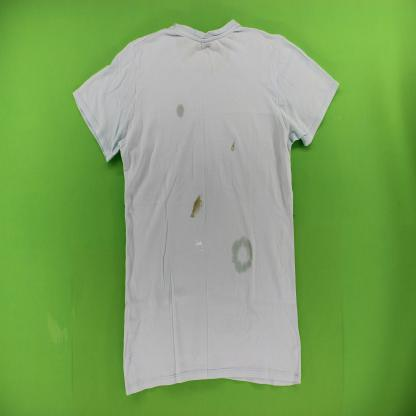stain: (229, 231, 255, 276), (187, 191, 204, 221), (174, 100, 186, 120), (193, 236, 205, 256), (230, 137, 237, 153)
